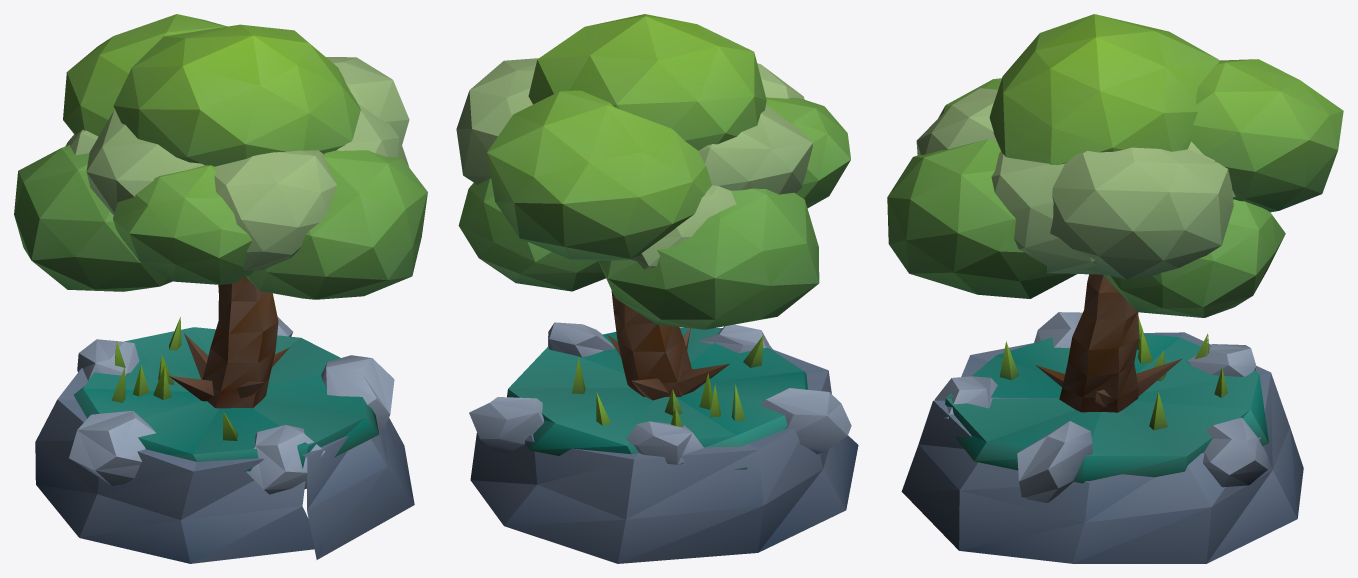
The model's file is pohon_oak_highland_54233.glb.
3 views of the same model, side by side, from view 1: azimuth 30°, elevation 25°; view 2: azimuth 150°, elevation 25°; view 3: azimuth 270°, elevation 25° (orthographic). The views are drawn at different scales.
Visible parts, largest first — view 1: Dedaunan_Kanopi, Pulau_Batu_Tepi_Sungai, Batang_Dan_Akar; view 2: Dedaunan_Kanopi, Pulau_Batu_Tepi_Sungai, Batang_Dan_Akar; view 3: Dedaunan_Kanopi, Pulau_Batu_Tepi_Sungai, Batang_Dan_Akar.
Part boxes in pixels (bbox=[...]): Dedaunan_Kanopi: bbox=[14, 14, 427, 299]; Pulau_Batu_Tepi_Sungai: bbox=[35, 316, 414, 563]; Batang_Dan_Akar: bbox=[168, 277, 289, 408]; Dedaunan_Kanopi: bbox=[456, 14, 850, 329]; Pulau_Batu_Tepi_Sungai: bbox=[469, 322, 858, 563]; Batang_Dan_Akar: bbox=[607, 291, 729, 400]; Dedaunan_Kanopi: bbox=[887, 14, 1343, 317]; Pulau_Batu_Tepi_Sungai: bbox=[901, 312, 1303, 563]; Batang_Dan_Akar: bbox=[1035, 274, 1182, 412].
Size of the model in its own units: 5.61 by 6.83 by 6.02.
